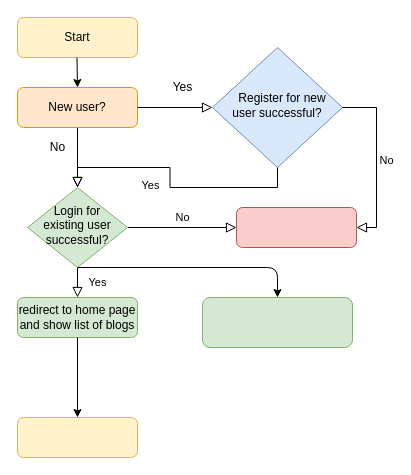
The diagram is 411 pixels wide and 475 high, and some of its shapes have lost their labels. The shapes that lost their labels are listed below. From the top down, each one's centre as x and y in pixels, then its label:
the point at 296,227: Error page
the point at 277,322: Create new post/Update profile/logout functionality
the point at 77,437: End
